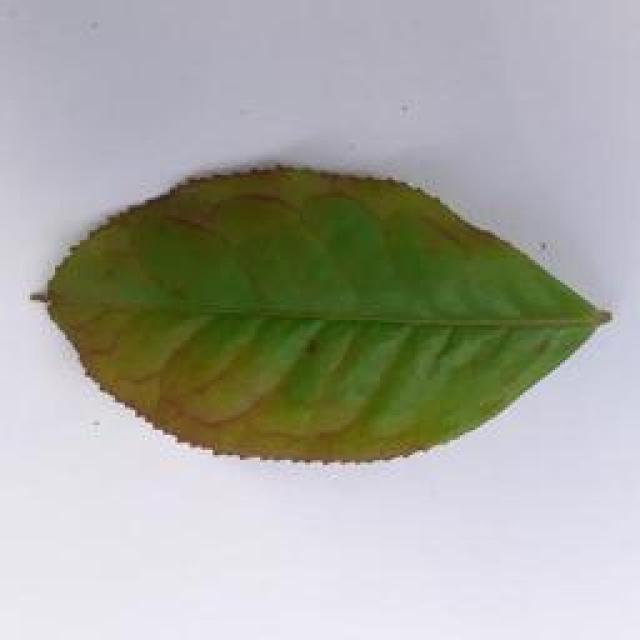Red Leaf Spot: (37, 161, 638, 493)
